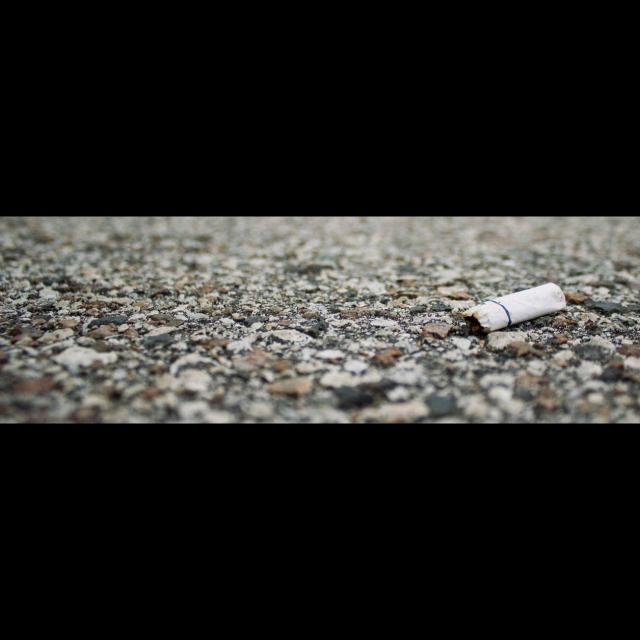cigarette: (460, 283, 567, 336)
